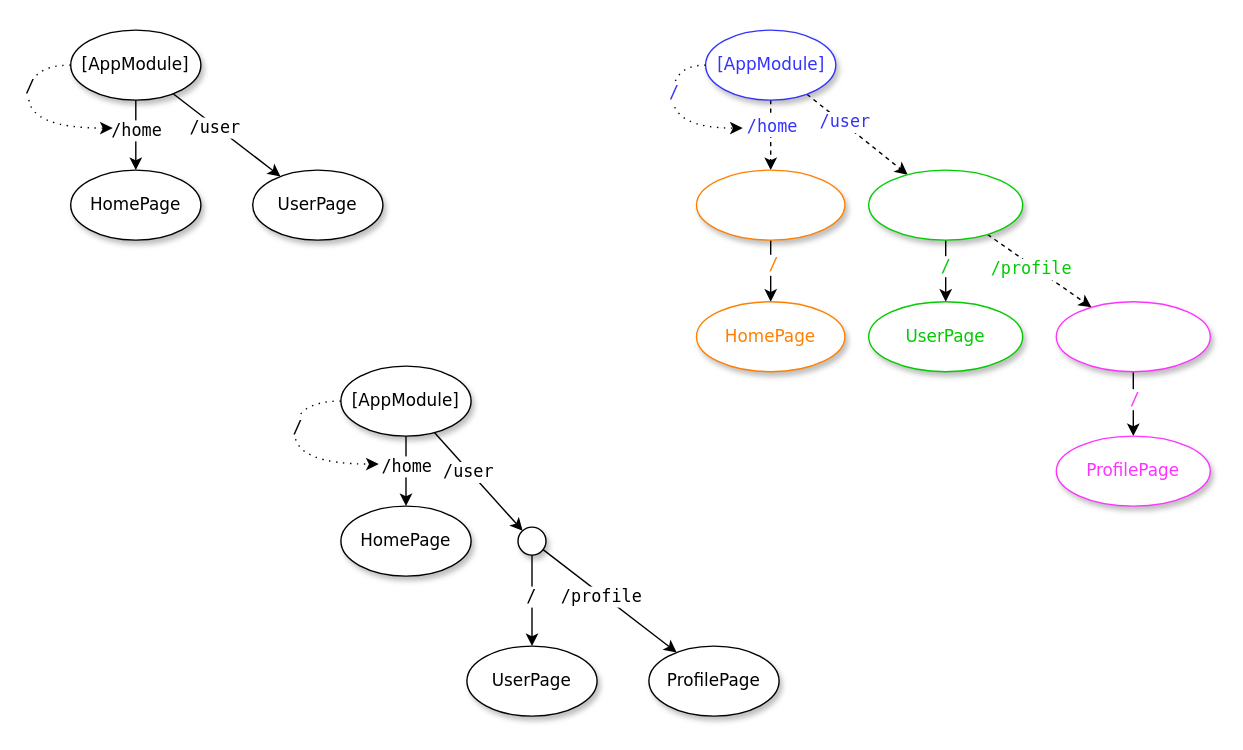
Some shapes in this 1243 by 750 pixel diagram are drawn without their labels. Here are the shapes that lost their labels. From the top down, the centre of each, then its label:
At point 771,206: "[HomeModule]".
At point 946,206: "[UserModule]".
At point 1134,338: "[ProfileModule]".
